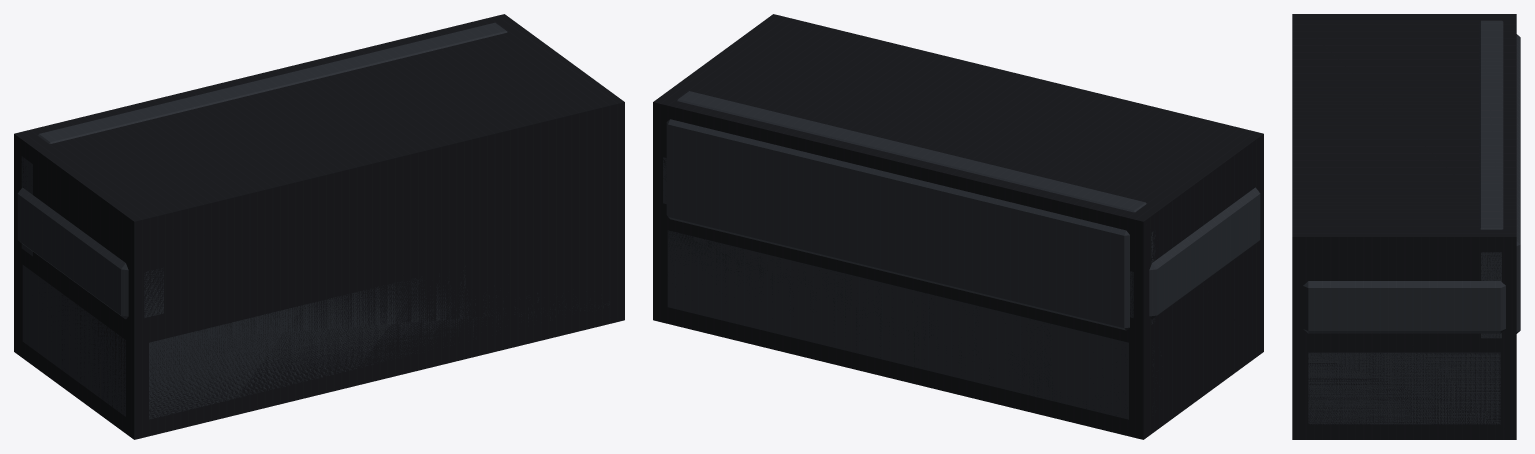
File: kit_sofa.glb
The picture shows the model from 3 angles, left to right: view 1: azimuth 30°, elevation 25°; view 2: azimuth 150°, elevation 25°; view 3: azimuth 270°, elevation 25°; orthographic projection. The views are drawn at different scales.
Visible parts, largest first — view 1: sf_COL, sf_base, sf_arm-1, sf_back; view 2: sf_COL, sf_back, sf_base, sf_arm-1; view 3: sf_COL, sf_base, sf_arm1, sf_back.
Part boxes in pixels (x1,y1,x2,y2): sf_COL: (14,14,624,439); sf_base: (22,265,609,419); sf_arm-1: (17,187,163,319); sf_back: (21,22,507,256); sf_COL: (653,14,1263,439); sf_back: (666,91,1155,330); sf_base: (667,230,1161,419); sf_arm-1: (1130,187,1260,319); sf_COL: (1292,14,1516,439); sf_base: (1308,352,1500,424); sf_arm1: (1303,281,1505,333); sf_back: (1479,20,1520,338).
Size of the model in its own units: 2.04 by 0.855 by 0.865.
2 materials, 2 textured.
